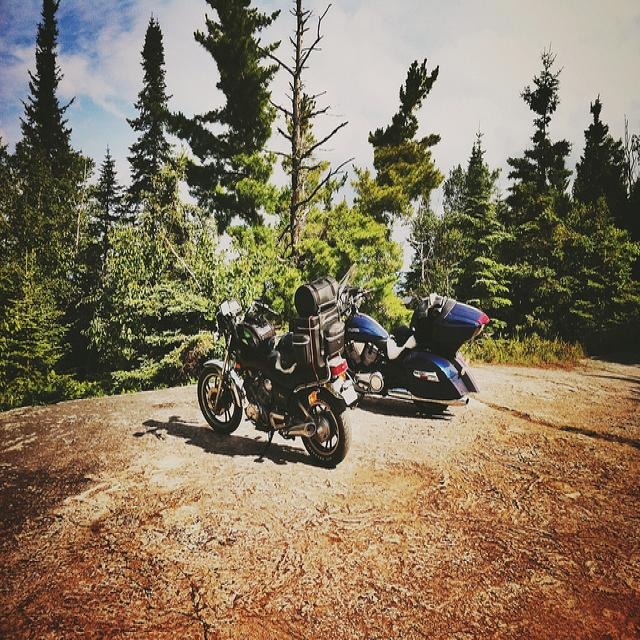motor: (195, 271, 360, 468), (343, 284, 490, 409)
